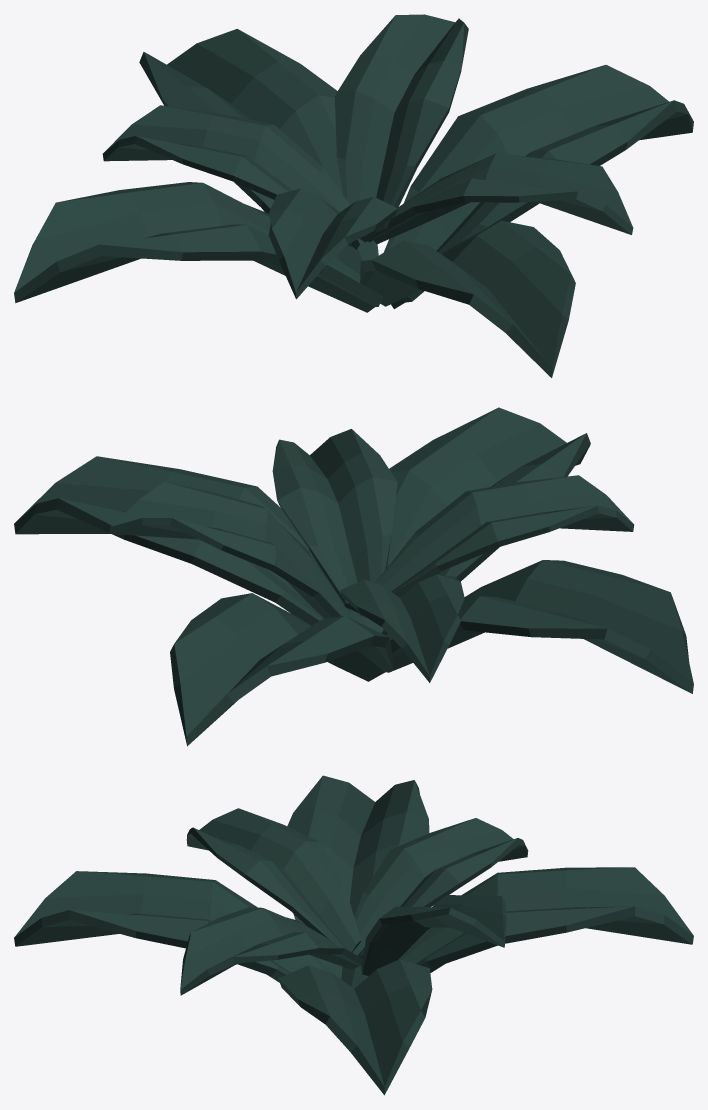
The model's file is Plant_1.fbx.
The picture shows the model from 3 angles, top to bottom: view 1: azimuth 30°, elevation 25°; view 2: azimuth 150°, elevation 25°; view 3: azimuth 270°, elevation 25°; orthographic projection. The views are drawn at different scales.
Visible parts, largest first — view 1: Plane.007; view 2: Plane.007; view 3: Plane.007.
Boxes of the visible parts, x1,y1,x2,y2 form: Plane.007: (14, 14, 693, 377); Plane.007: (14, 407, 693, 746); Plane.007: (14, 775, 693, 1095).
Size of the model in its own units: 212 by 59.78 by 213.
